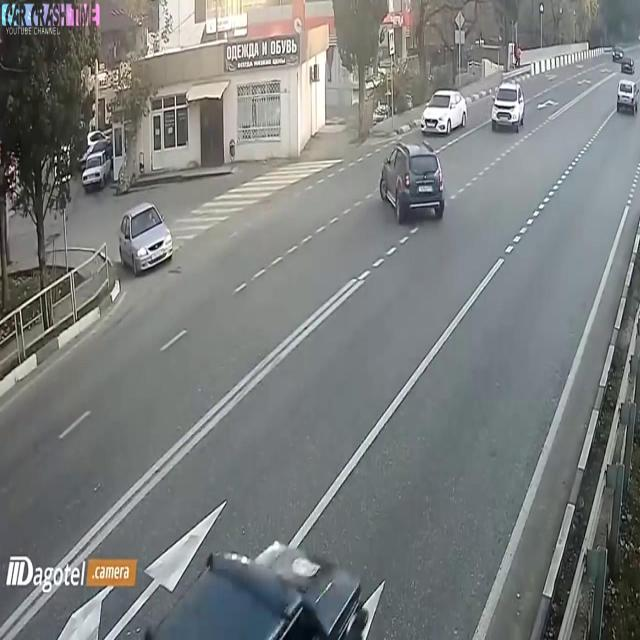non_accident: (374, 78, 472, 234)
